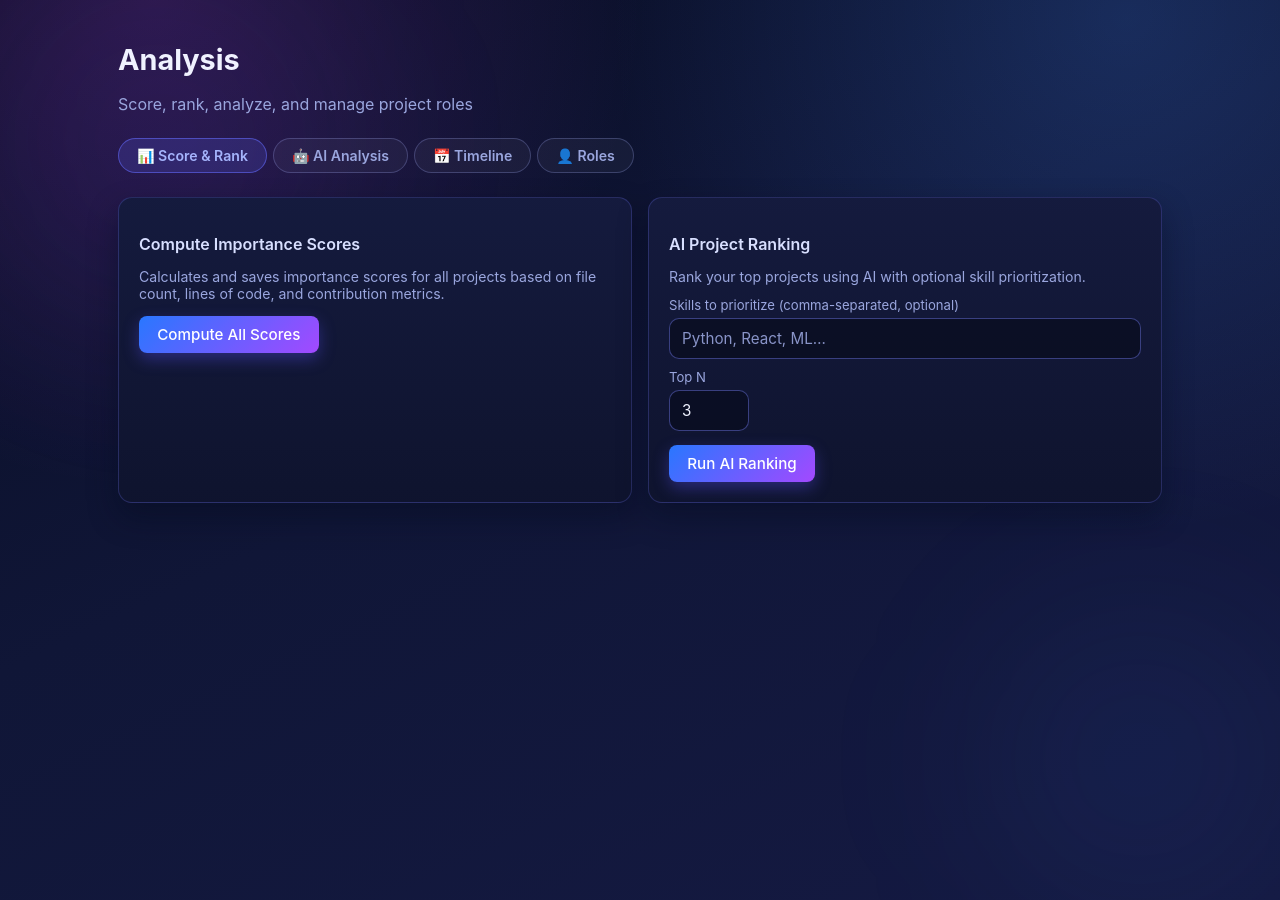
Analysis - AI tab › switches to AI Analysis tab
The width and height of the screenshot is (1280, 900).
Click the button "🤖 AI Analysis": [340, 155] box top-left (273, 138), bottom-right (408, 173)
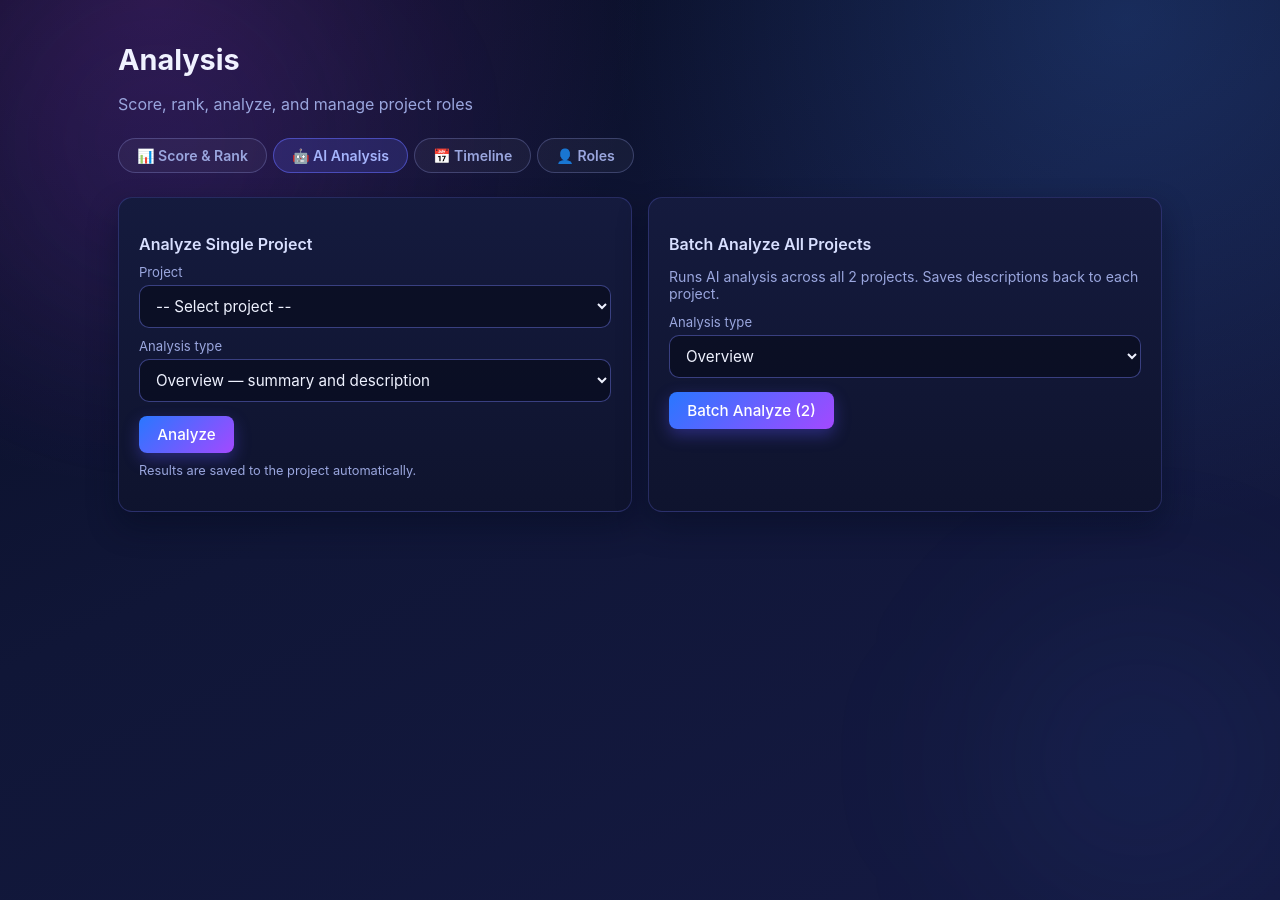
Now the heading "Analyze Single Project" is shown, box top-left (139, 234), bottom-right (312, 254)
